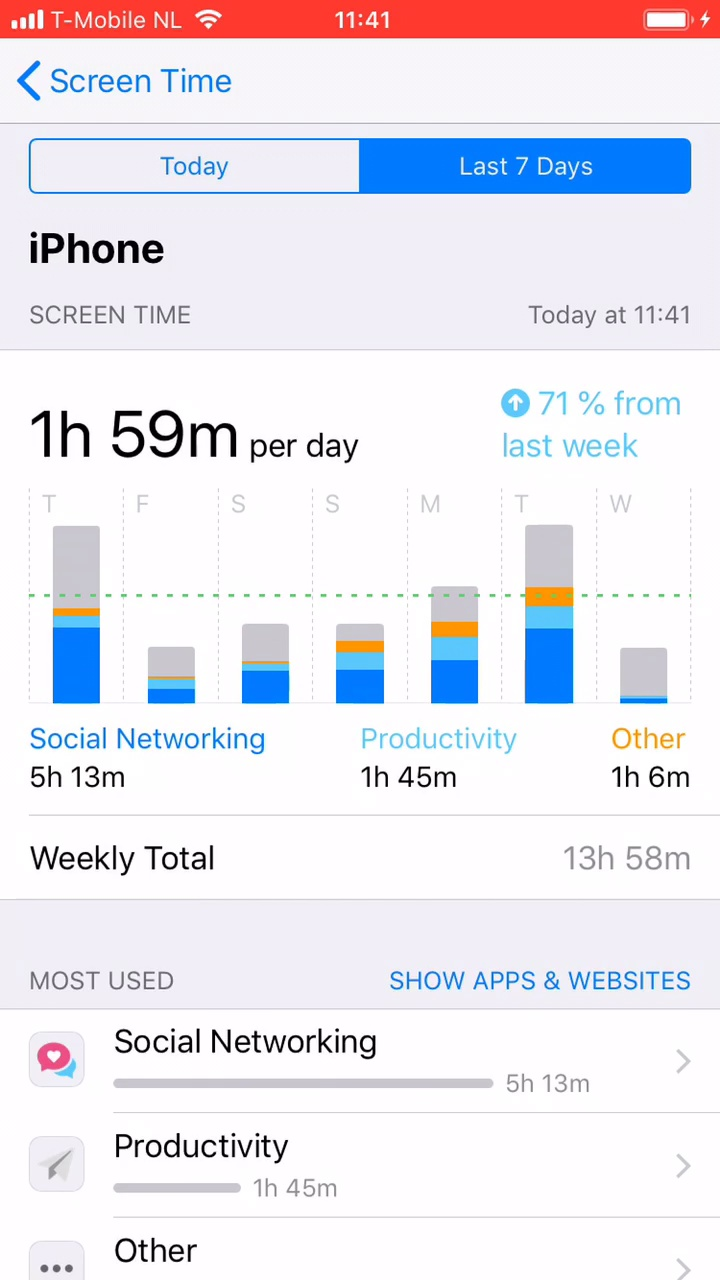use_over: (28, 719, 703, 885)
